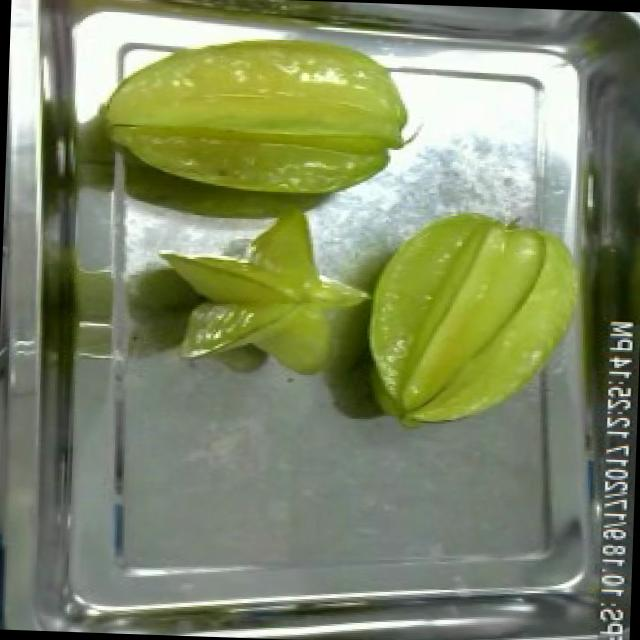fruit: (81, 22, 417, 215), (353, 200, 594, 440), (146, 210, 388, 384)
